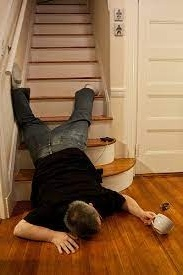fall: (8, 70, 154, 254)
